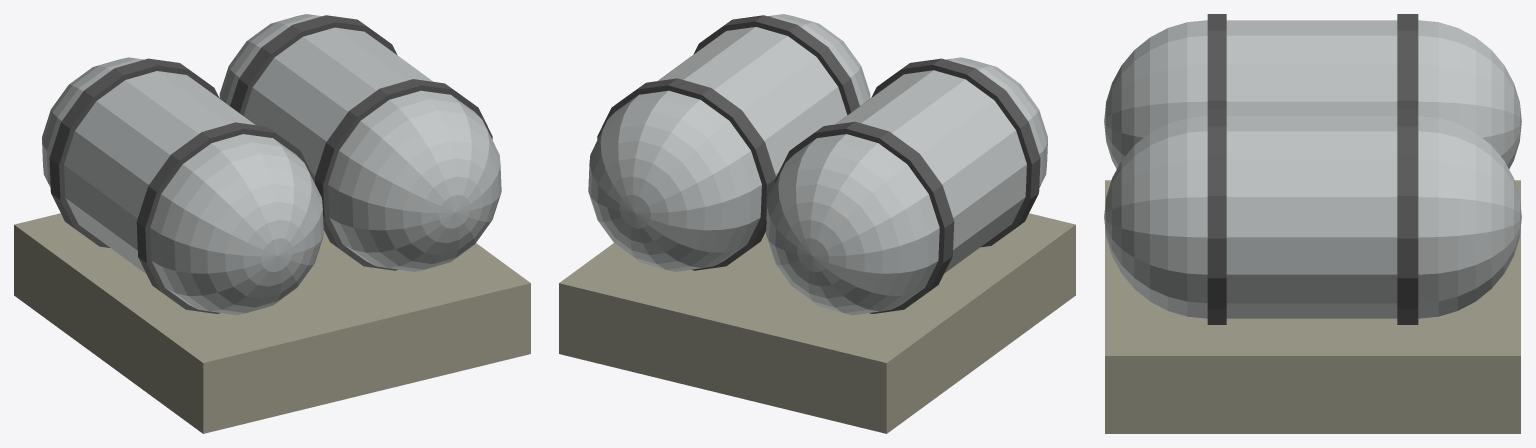
File: generator.fbx
3 views of the same model, side by side, from view 1: azimuth 30°, elevation 25°; view 2: azimuth 150°, elevation 25°; view 3: azimuth 270°, elevation 25° (orthographic). The views are drawn at different scales.
Parts seen in each view (by area): view 1: Generators; view 2: Generators; view 3: Generators.
Part boxes in pixels (x1,y1,x2,y2): Generators: (14,14,530,433); Generators: (559,14,1075,433); Generators: (1104,14,1521,433).
Size of the model in its own units: 4.28 by 2.93 by 4.04.
